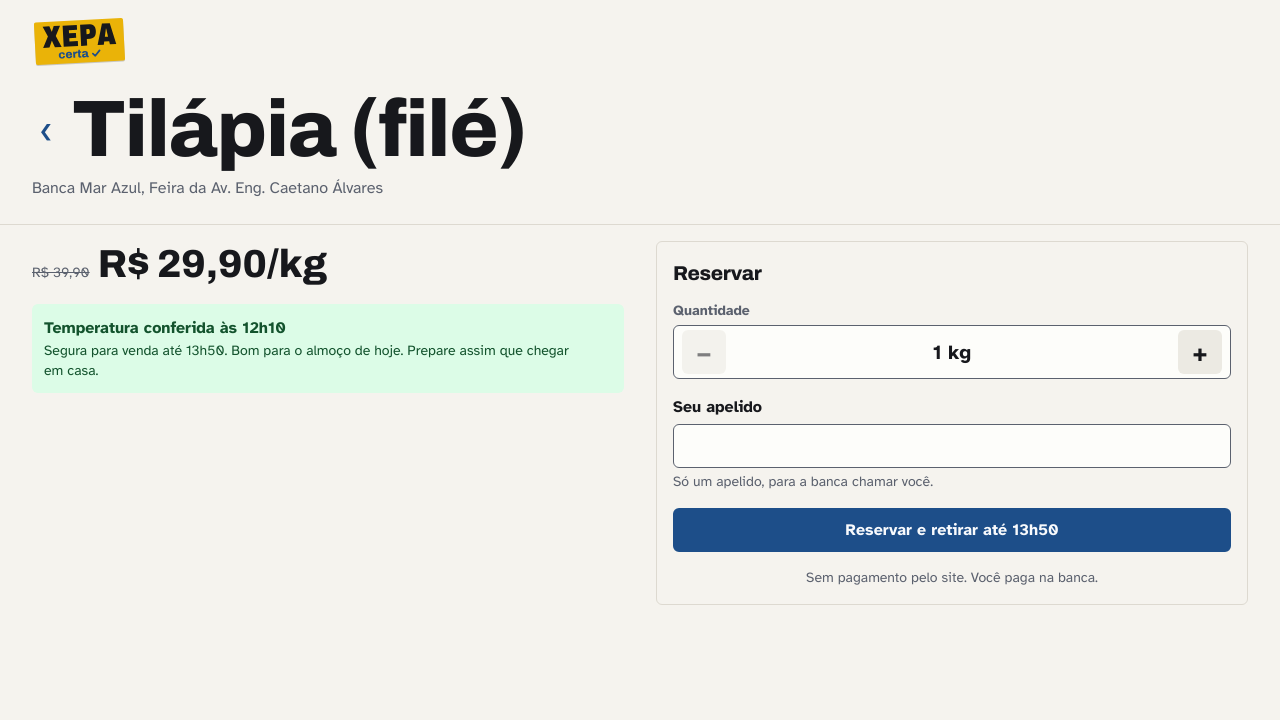
it: Detalhe da oferta › reserva feita mostra a confirmação com o prazo
Expected: the text "Temperatura conferida às 12h10" is shown, x1=44 y1=318 x2=286 y2=338
Type "Ana" into the field labelled "Seu apelido". click: coordinates (952, 446)
box: x1=673 y1=424 x2=1231 y2=468
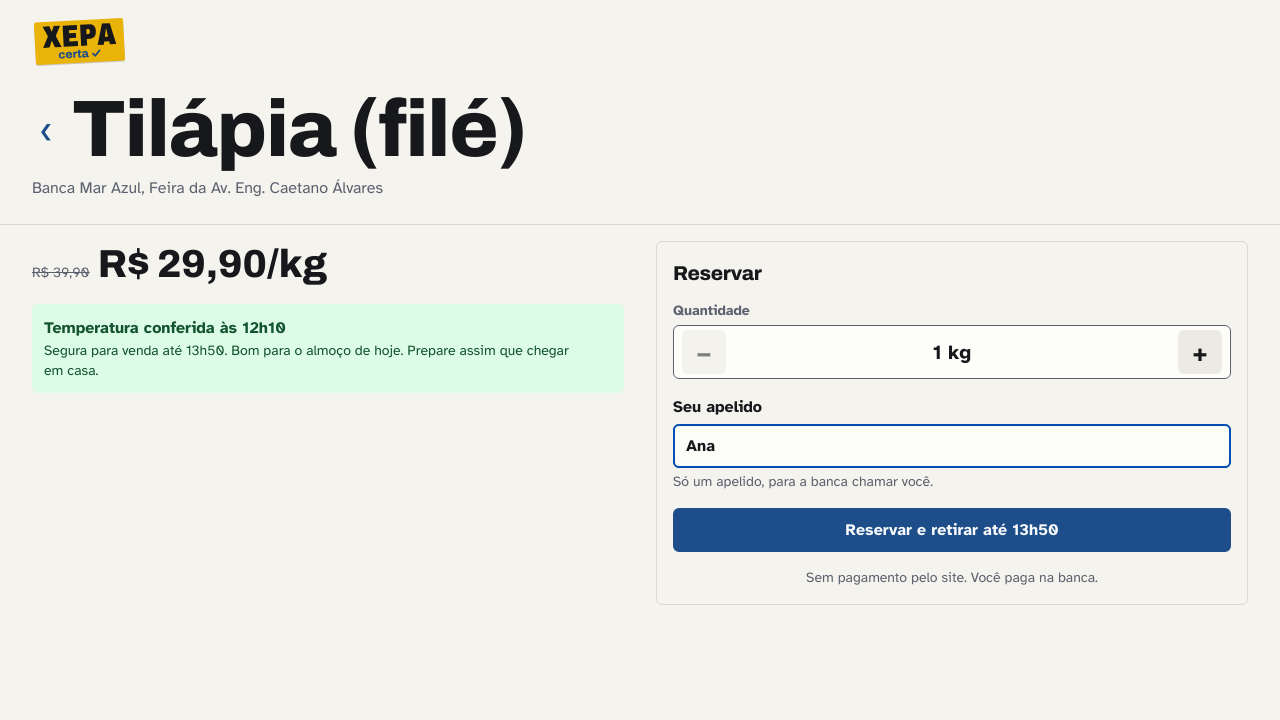
Click the button "Reservar e retirar até 13h50". click: coordinates (952, 530)
box: x1=673 y1=508 x2=1231 y2=552
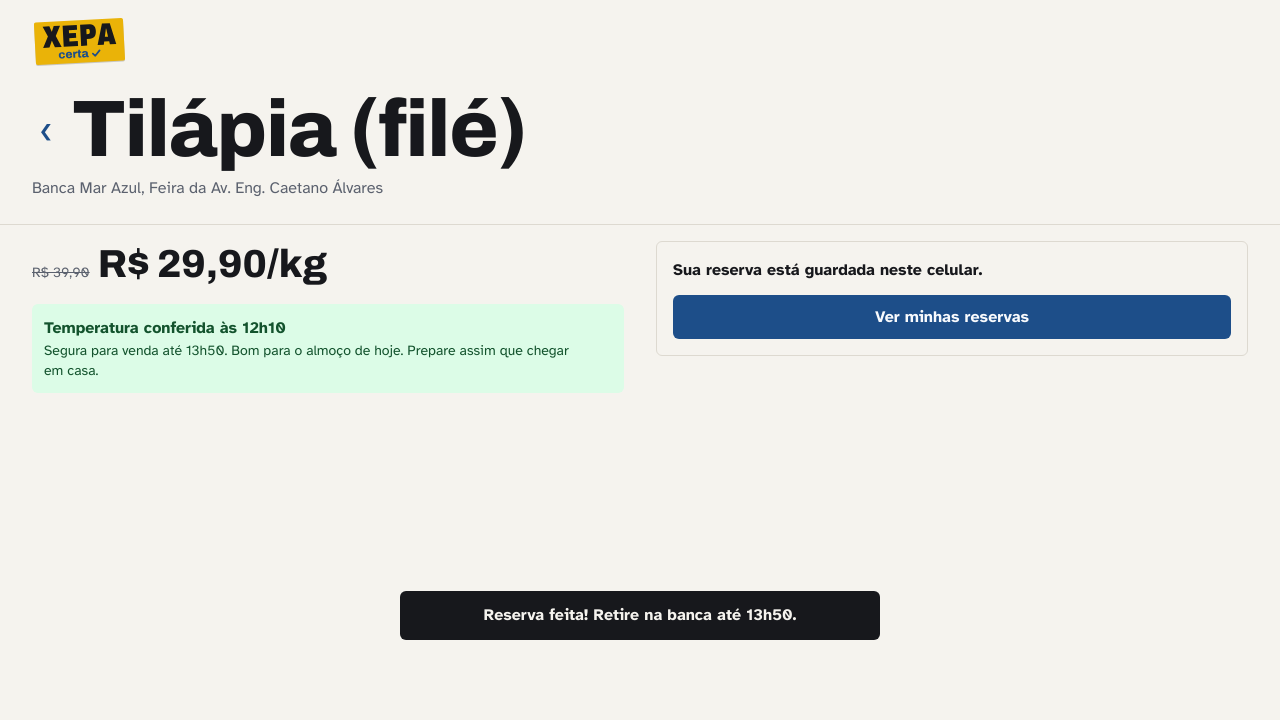
Now the text "Reserva feita! Retire na banca até 13h50." is shown, box x1=400 y1=591 x2=880 y2=640
